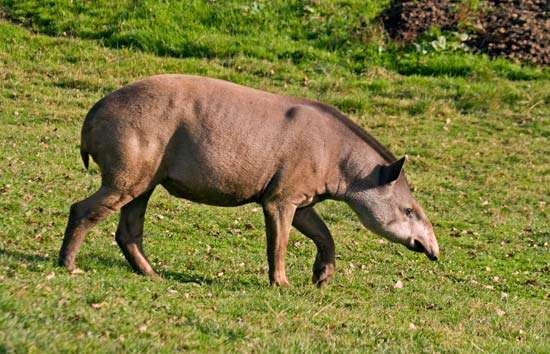Anta: (38, 63, 445, 292)
